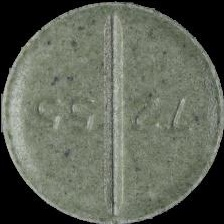0093-7255: (0, 0, 224, 224)
